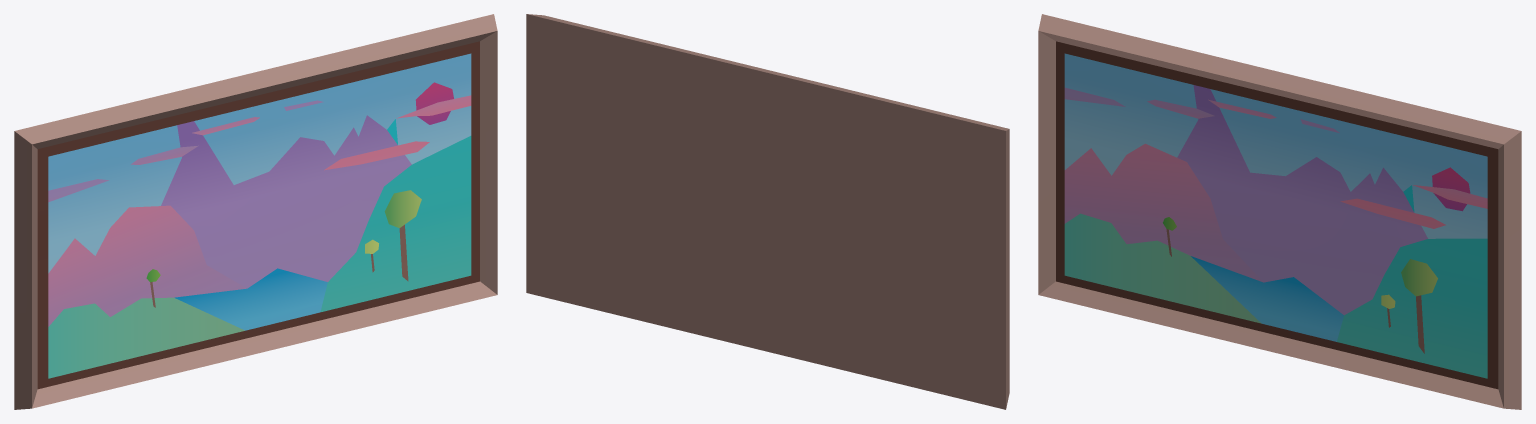
The model's file is picture_057.glb.
The picture shows the model from 3 angles, left to right: view 1: azimuth 30°, elevation 25°; view 2: azimuth 150°, elevation 25°; view 3: azimuth 330°, elevation 25°; orthographic projection.
Parts seen in each view (by area): view 1: picture_057; view 2: picture_057; view 3: picture_057.
Part boxes in pixels (bbox=[...]): picture_057: bbox=[14, 14, 497, 409]; picture_057: bbox=[526, 14, 1009, 409]; picture_057: bbox=[1038, 14, 1521, 409].
Bounding box in the file's own units: 1.47 × 0.8166 × 0.0563.
1 material, 1 textured.
